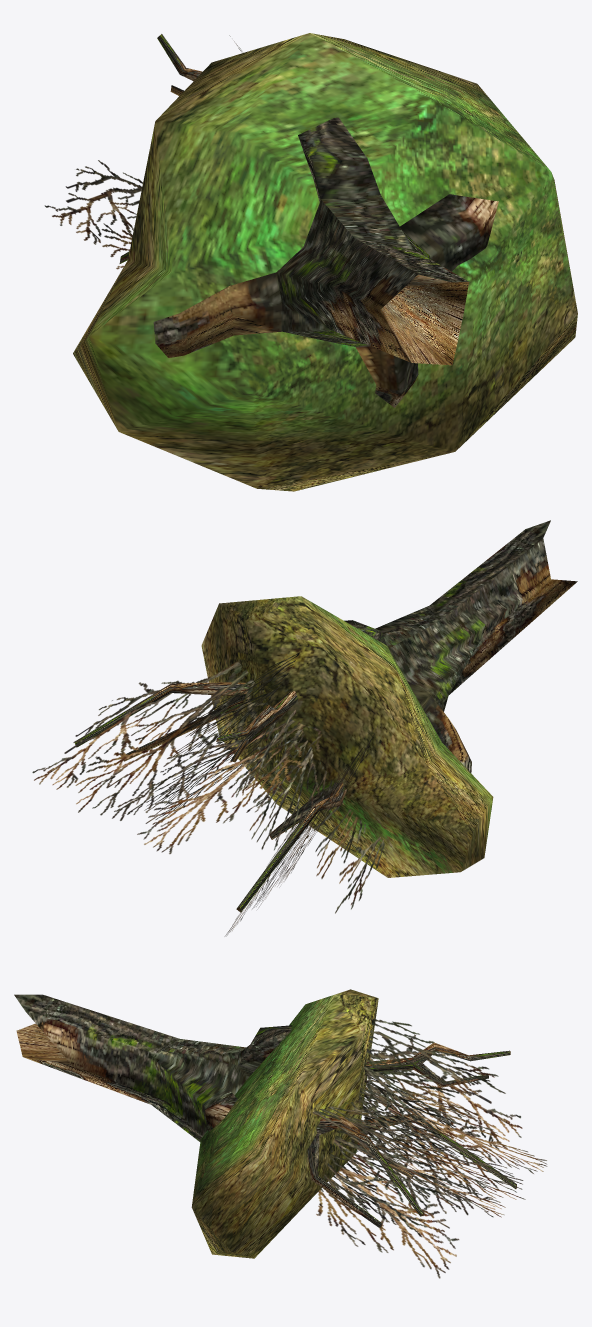
Rendered from tree4_13g.glb.
3 views of the same model, one above another, from view 1: azimuth 30°, elevation 25°; view 2: azimuth 150°, elevation 25°; view 3: azimuth 270°, elevation 25° (orthographic). The views are drawn at different scales.
Visible parts, largest first — view 1: tree4_13g; view 2: tree4_13g; view 3: tree4_13g.
Boxes of the visible parts, bbox=[...] form: tree4_13g: bbox=[44, 33, 577, 491]; tree4_13g: bbox=[32, 520, 577, 936]; tree4_13g: bbox=[14, 989, 547, 1278].
Bounding box in the file's own units: 7.23 × 6.06 × 10.29.
4 materials, 4 textured.
